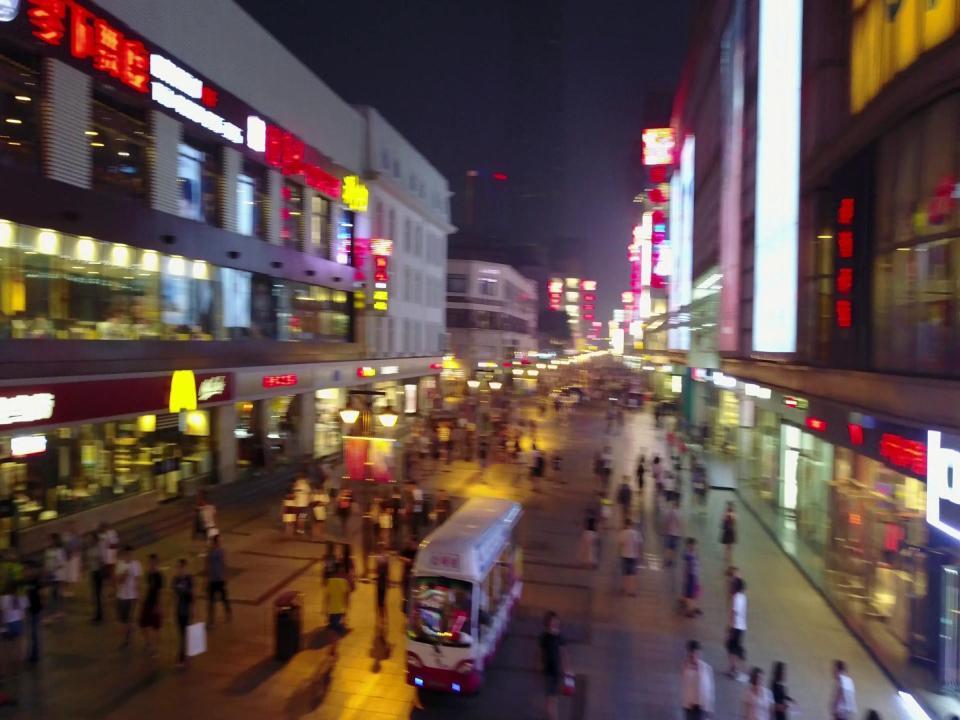bus: (402, 498, 528, 691)
